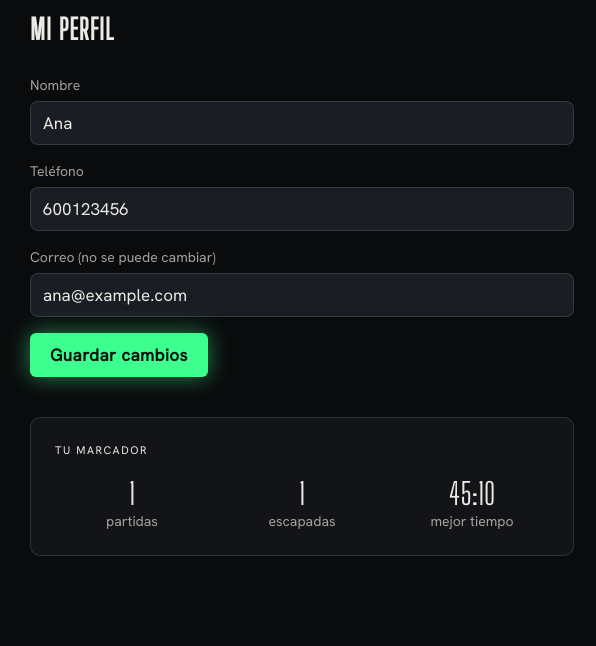
ProfilePage - form › saves with PUT /users/me (name and phone only), shows success and refreshes the user
The image size is (596, 646).
Replace the text in the field labelled "Nombre" with "Ana María" at (302, 123), box [30,101,574,145]
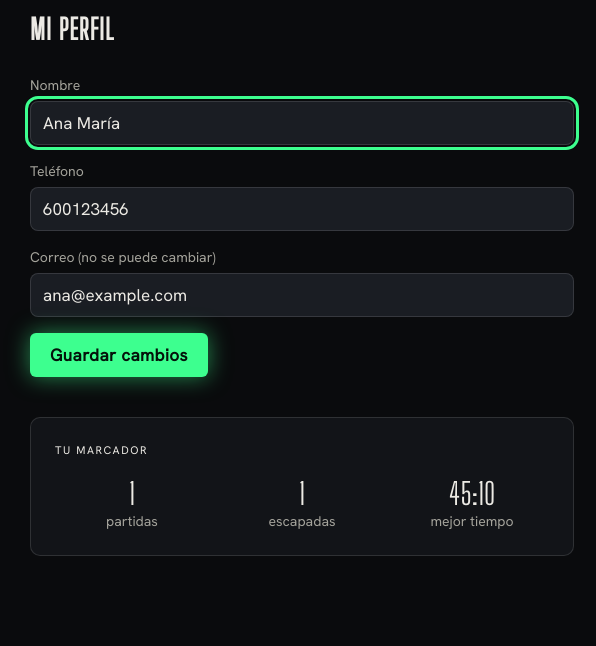
Click the button "Guardar cambios" at (119, 355), box [30,333,208,377]
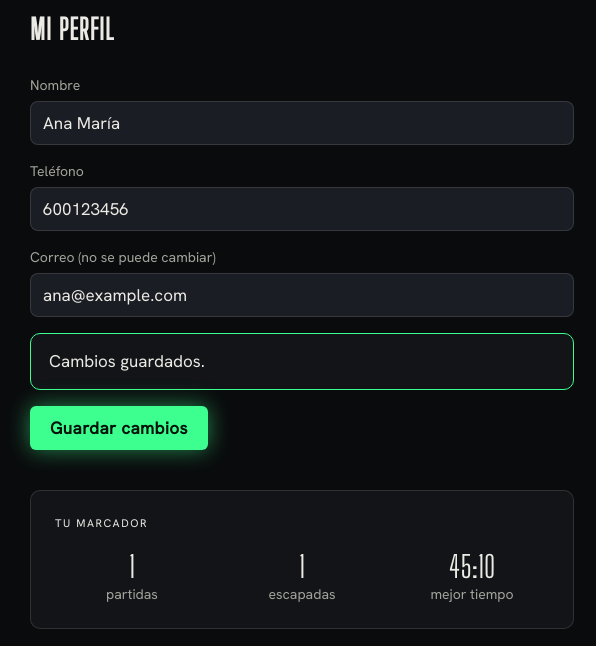
Check: the text "Cambios guardados." is shown, box [30,333,574,390]
